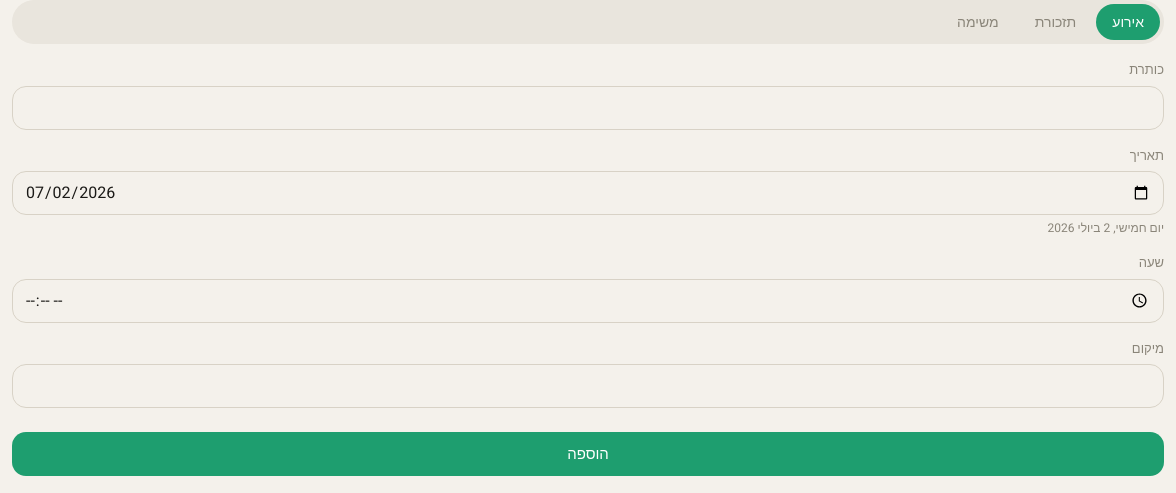
AddItemForm › shows the selected date as a Hebrew hint under the date field
In the date field labelled "תאריך": (588, 193) top-left (12, 171), bottom-right (1164, 215), type "2026-06-24"
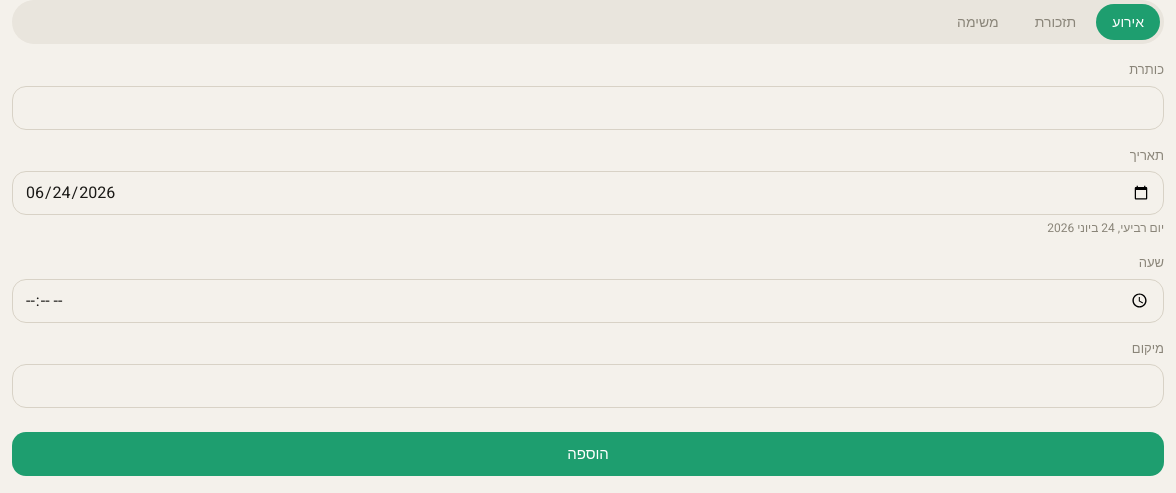
Check: the text "יום רביעי, 24 ביוני 2026" is shown, box top-left (1047, 219), bottom-right (1164, 237)
